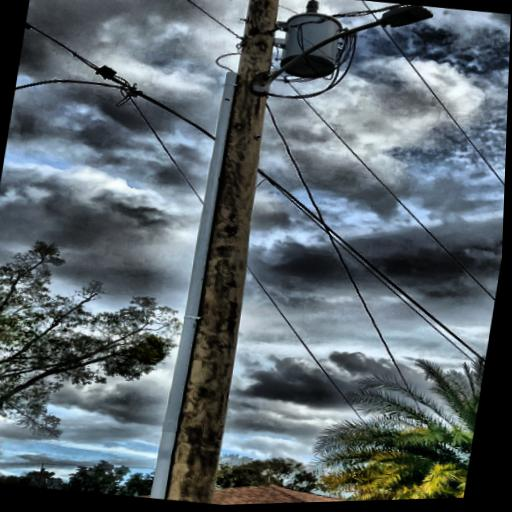pole: (141, 0, 292, 506)
street light: (237, 0, 445, 120)
transformer: (275, 4, 350, 86)
